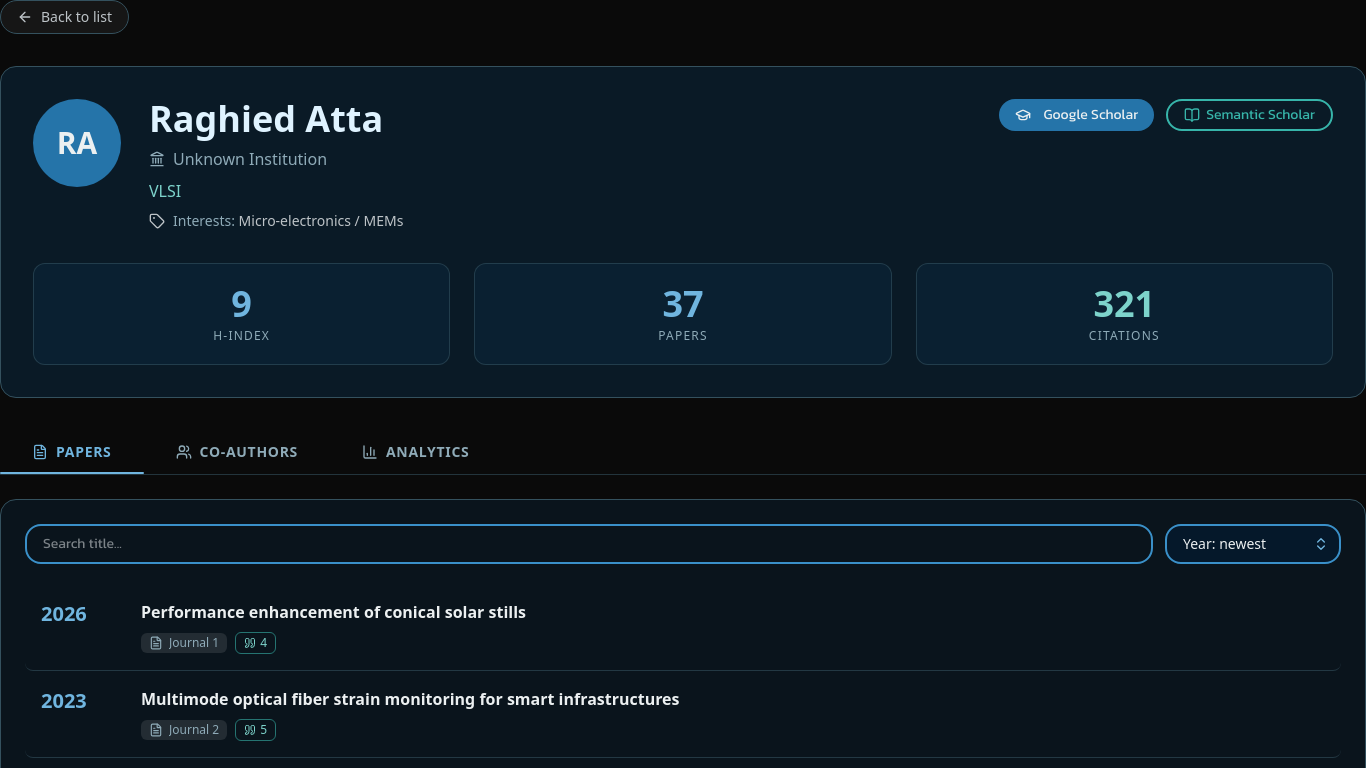
Test case: Papers tab › filters by title
The image size is (1366, 768).
Expected: the text "321" is shown, [1093,284,1155,324]
Type "fiber" into the search field named "Search papers by title".
click(589, 544); type("fiber")  # box [25,524,1153,564]
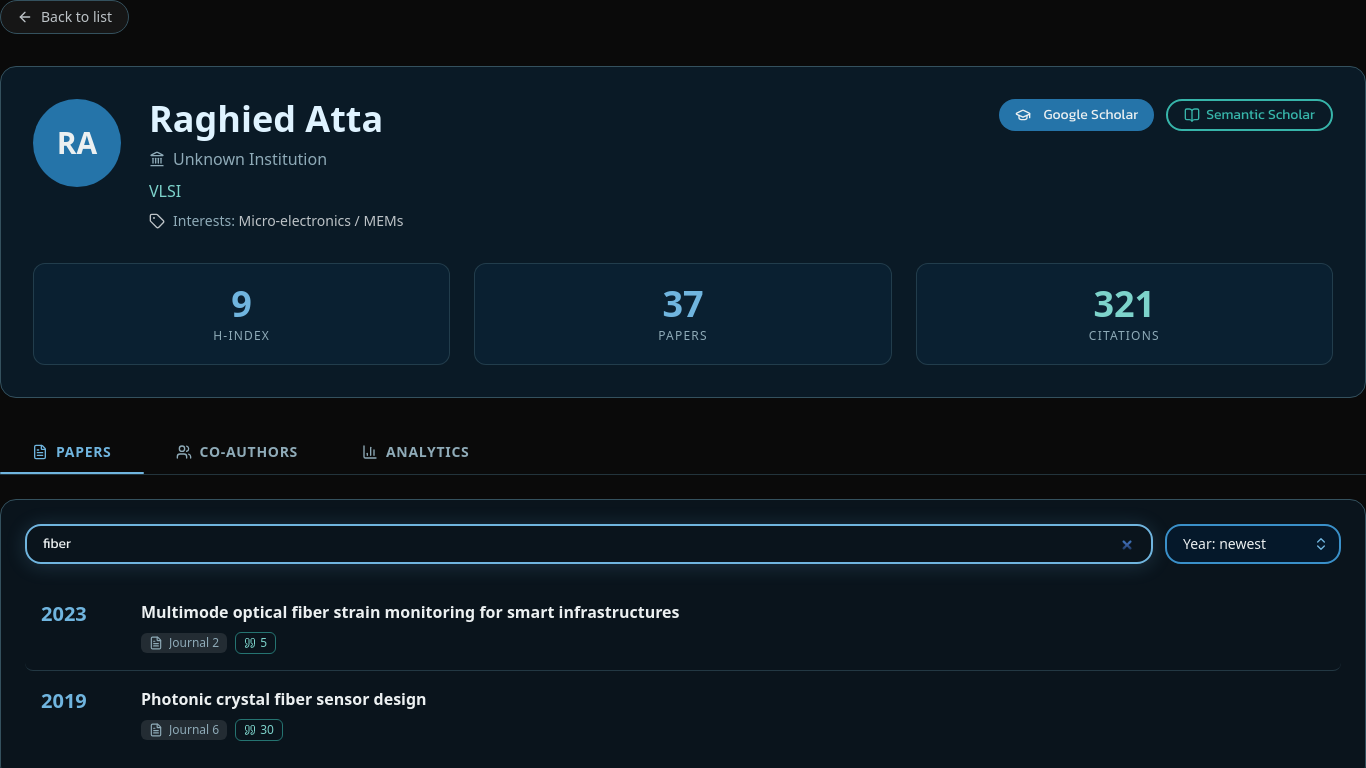
Replace the text in the search field with "graphene" at (589, 544), box [25,524,1153,564]
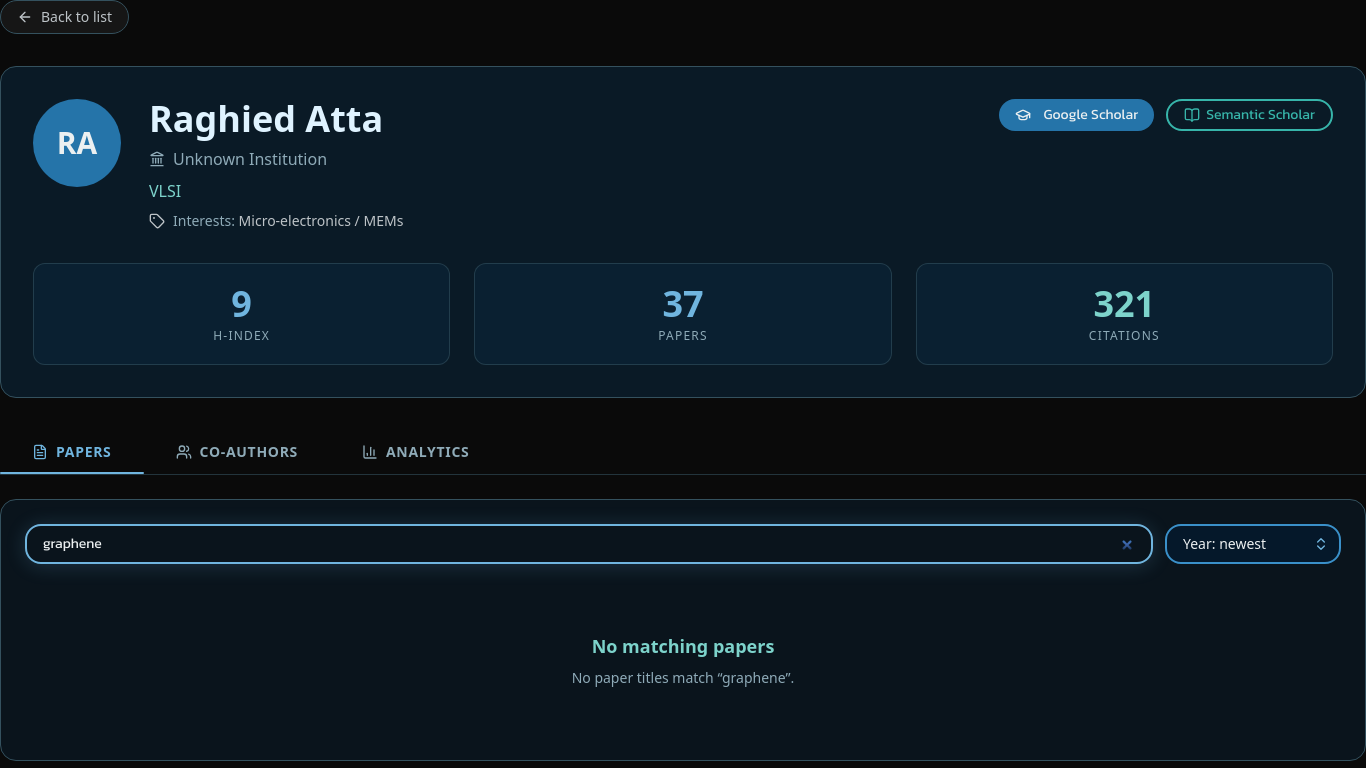
Expected: the text "No matching papers" is shown, [592,632,774,660]
